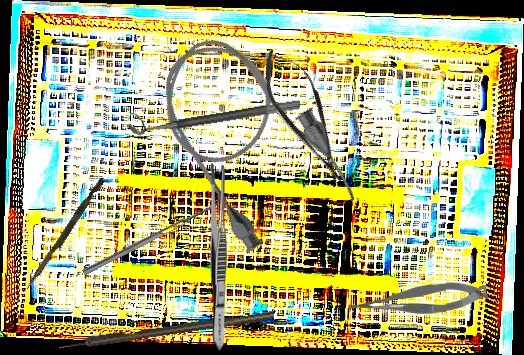Cannula: (133, 10, 368, 267)
Dressing Forceps: (207, 161, 229, 352)
Fixation Ring: (125, 85, 301, 138)
Hook Surgical: (58, 309, 275, 352)
Micro Scissor: (250, 39, 360, 193), (345, 280, 490, 317)
Pusher: (24, 175, 106, 294)
Spatula Surgical: (79, 193, 225, 276)
